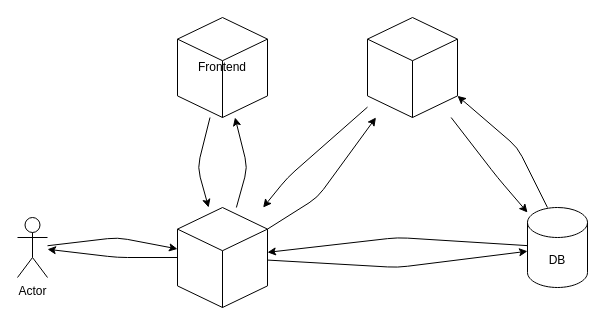
The diagram is 605 pixels wide and 325 high, and some of its shapes have lost their labels. The shapes that lost their labels are listed below. From the top down, each one's centre as x and y in pixels, then its label:
At [412,67]: "API".
At [222,257]: "Openresty".
